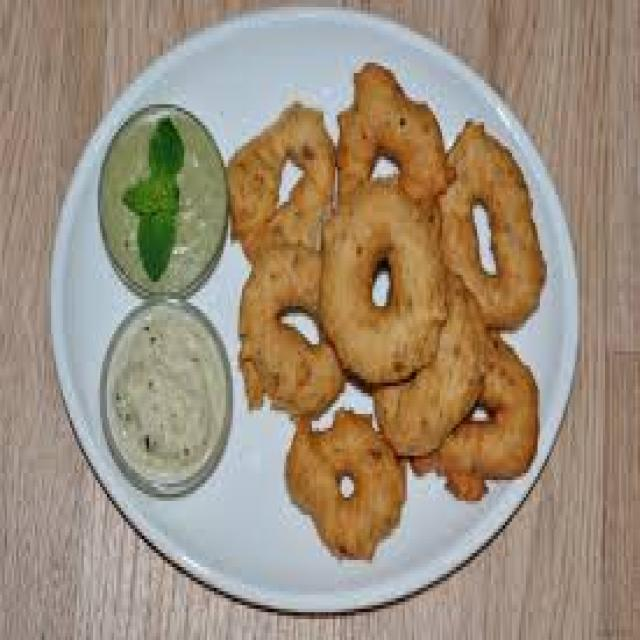MEDU VADA: (318, 166, 440, 386), (441, 130, 547, 338), (376, 268, 487, 458), (239, 242, 354, 425), (439, 127, 542, 331), (337, 72, 453, 231), (295, 409, 409, 570), (234, 123, 334, 269), (448, 344, 541, 478)
